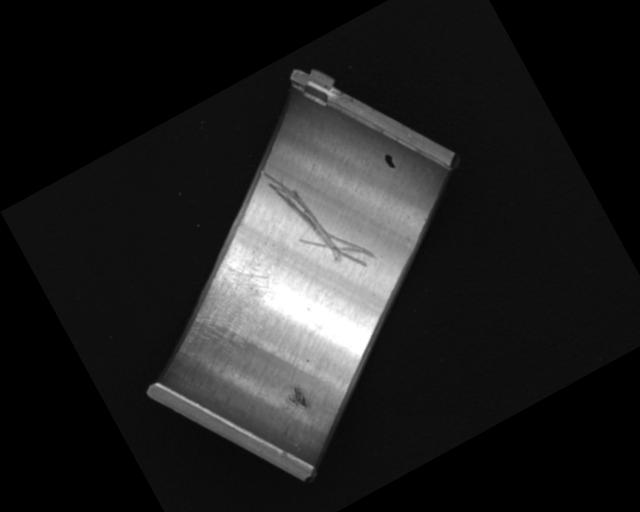blot: (381, 150, 399, 171)
bruise: (284, 382, 312, 413)
nick: (257, 137, 378, 289)
scratch: (154, 242, 301, 375)
